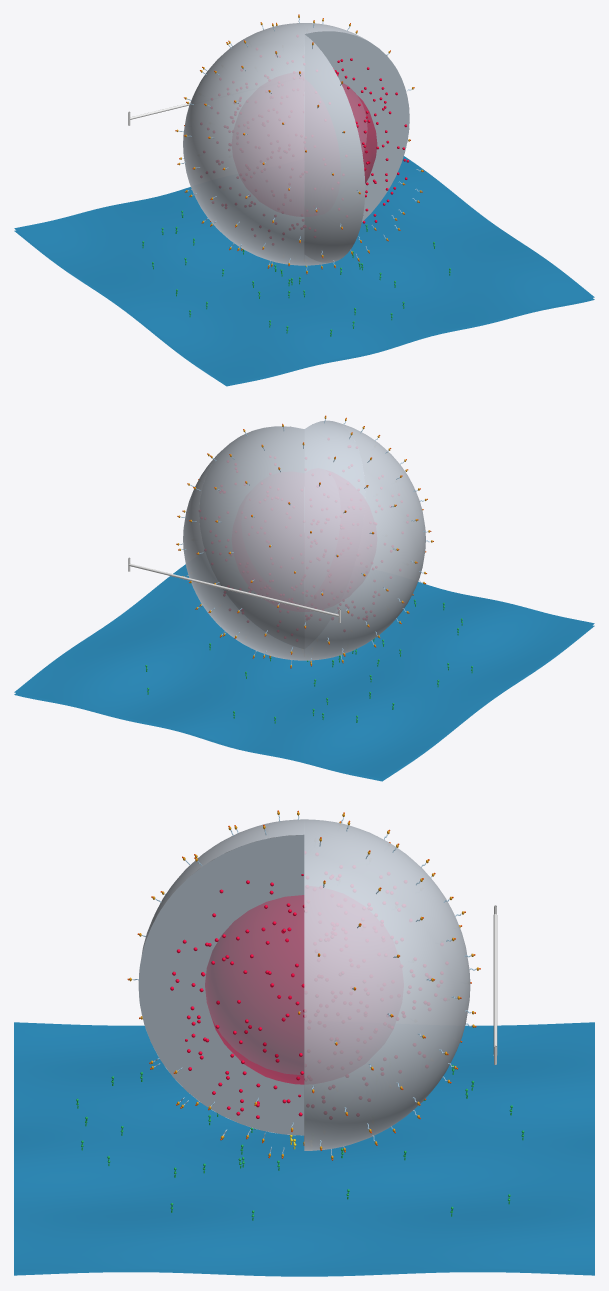
Rendered from nanoparticle_her2_complex.obj.
3 views of the same model, one above another, from view 1: azimuth 30°, elevation 25°; view 2: azimuth 150°, elevation 25°; view 3: azimuth 270°, elevation 25° (orthographic). The views are drawn at different scales.
Parts seen in each view (by area): view 1: Cancer_Cell_Membrane, Polystyrene_Core_Cutaway, Polystyrene_Cutaway_Walls, Cy5_Internal_Luminescence, Cy5_Fluorophore_Matrix, HER2_Overexpressed_Receptors; view 2: Cancer_Cell_Membrane, Polystyrene_Core_Cutaway, Polystyrene_Cutaway_Walls, Nanoscale_400nm_Scale_Bar, Anti_HER2_Nanobodies; view 3: Cancer_Cell_Membrane, Polystyrene_Core_Cutaway, Polystyrene_Cutaway_Walls, Cy5_Internal_Luminescence, Cy5_Fluorophore_Matrix, Nanoscale_400nm_Scale_Bar, Anti_HER2_Nanobodies, PEG_Linkers, HER2_Overexpressed_Receptors.
Boxes of the visible parts, x1,y1,x2,y2 form: Cancer_Cell_Membrane: [14, 156, 594, 386]; Polystyrene_Core_Cutaway: [183, 23, 409, 265]; Polystyrene_Cutaway_Walls: [304, 31, 409, 261]; Cy5_Internal_Luminescence: [340, 81, 377, 183]; Cy5_Fluorophore_Matrix: [201, 56, 409, 229]; HER2_Overexpressed_Receptors: [142, 210, 450, 336]; Cancer_Cell_Membrane: [14, 564, 594, 781]; Polystyrene_Core_Cutaway: [183, 420, 425, 660]; Polystyrene_Cutaway_Walls: [200, 421, 364, 647]; Nanoscale_400nm_Scale_Bar: [128, 557, 340, 622]; Anti_HER2_Nanobodies: [177, 416, 432, 667]; Cancer_Cell_Membrane: [14, 1022, 594, 1276]; Polystyrene_Core_Cutaway: [138, 819, 470, 1150]; Polystyrene_Cutaway_Walls: [138, 835, 304, 1135]; Cy5_Internal_Luminescence: [205, 895, 304, 1084]; Cy5_Fluorophore_Matrix: [170, 854, 447, 1118]; Nanoscale_400nm_Scale_Bar: [493, 905, 497, 1064]; Anti_HER2_Nanobodies: [129, 811, 478, 1158]; PEG_Linkers: [132, 815, 476, 1155]; HER2_Overexpressed_Receptors: [76, 1065, 524, 1220].
Size of the model in its own units: 700 by 435 by 700.
